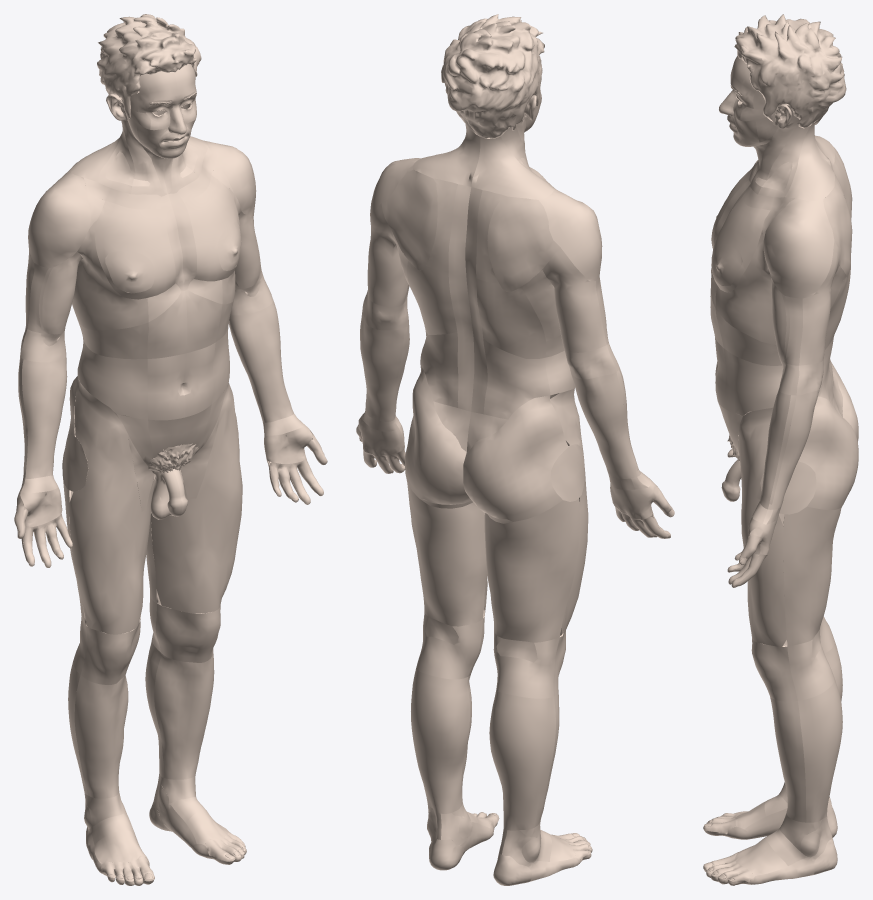
File: integ.glb
3 renders of one model, left to right at view 1: azimuth 30°, elevation 25°; view 2: azimuth 150°, elevation 25°; view 3: azimuth 270°, elevation 25°, orthographic.
Parts seen in each view (by area): view 1: Anterior region of thigh, Anterior region of thigh.001x, Anterior region of leg, Hair, Anterior region of leg.001x, Pectoral region, Deltoid region, Anterior region of forearm, Anterior region of forearm.001x, Lateral region of thorax, Lateral region of abdomen, Pectoral region.001x (+47 smaller); view 2: Posterior region of thigh.001x, Hair, Gluteal region.001x, Posterior region of thigh, Posterior region of leg.001x, Posterior region of leg, Gluteal region, Scapular region.001x, Posterior region of arm.001x, Infrascapular region, Scapular region, Posterior region of forearm (+32 smaller); view 3: Hair, Anterior region of thigh.001x, Posterior region of thigh, Deltoid region.001x, Gluteal region, Posterior region of leg, Lateral region of thorax.001x, Anterior region of leg, Lateral region of abdomen.001x, Pectoral region.001x, Posterior region of arm, Posterior cervical region.l (+45 smaller).
Part boxes in pixels (bbox=[...]): Anterior region of thigh: bbox=[69, 380, 155, 634]; Anterior region of thigh.001x: bbox=[151, 381, 242, 613]; Anterior region of leg: bbox=[154, 653, 214, 779]; Hair: bbox=[97, 14, 201, 118]; Anterior region of leg.001x: bbox=[74, 672, 128, 798]; Pectoral region: bbox=[95, 201, 175, 299]; Deltoid region: bbox=[28, 169, 90, 268]; Anterior region of forearm: bbox=[229, 300, 293, 422]; Anterior region of forearm.001x: bbox=[22, 357, 67, 478]; Lateral region of thorax: bbox=[72, 220, 148, 330]; Lateral region of abdomen: bbox=[77, 338, 147, 419]; Pectoral region.001x: bbox=[184, 175, 240, 281]; Posterior region of thigh.001x: bbox=[484, 498, 579, 642]; Hair: bbox=[441, 14, 544, 138]; Gluteal region.001x: bbox=[463, 395, 568, 521]; Posterior region of thigh: bbox=[405, 475, 486, 626]; Posterior region of leg.001x: bbox=[489, 690, 555, 830]; Posterior region of leg: bbox=[411, 669, 469, 813]; Gluteal region: bbox=[405, 364, 471, 504]; Scapular region.001x: bbox=[487, 196, 559, 291]; Posterior region of arm.001x: bbox=[542, 247, 606, 352]; Infrascapular region: bbox=[476, 278, 546, 358]; Scapular region: bbox=[381, 169, 437, 270]; Posterior region of forearm: bbox=[571, 372, 640, 478]; Hair: bbox=[734, 14, 846, 128]; Anterior region of thigh.001x: bbox=[738, 407, 786, 646]; Posterior region of thigh: bbox=[783, 507, 841, 646]; Deltoid region.001x: bbox=[763, 198, 834, 298]; Gluteal region: bbox=[798, 396, 858, 510]; Posterior region of leg: bbox=[798, 679, 842, 822]; Lateral region of thorax.001x: bbox=[715, 230, 846, 344]; Anterior region of leg: bbox=[770, 696, 806, 822]; Lateral region of abdomen.001x: bbox=[723, 348, 782, 415]; Pectoral region.001x: bbox=[711, 198, 770, 292]; Posterior region of arm: bbox=[799, 249, 839, 365]; Posterior cervical region.l: bbox=[785, 122, 834, 200].
Bounding box in the file's own units: 4.76 × 12.19 × 2.06.
